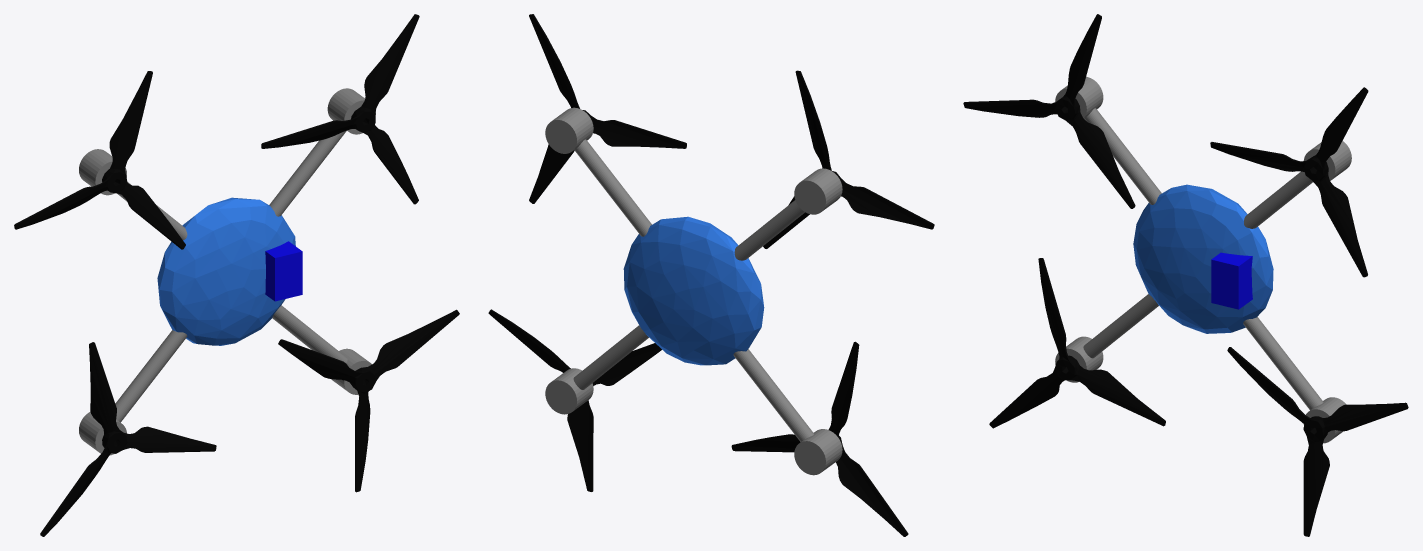
Rendered from quad.glb.
The picture shows the model from 3 angles, left to right: view 1: azimuth 30°, elevation 25°; view 2: azimuth 150°, elevation 25°; view 3: azimuth 330°, elevation 25°; orthographic projection.
Visible parts, largest first — view 1: Sphere, Tri Prop.002, Tri Prop.001, Tri Prop.003, Tri Prop, Cube, Cylinder.001, Cylinder, Cylinder.003, Cylinder.006, Cylinder.005, Cylinder.007 (+1 smaller); view 2: Sphere, Tri Prop.002, Tri Prop.003, Tri Prop, Tri Prop.001, Cylinder, Cylinder.001, Cylinder.006, Cylinder.007, Cylinder.005, Cylinder.003, Cylinder.004 (+1 smaller); view 3: Sphere, Tri Prop, Tri Prop.003, Tri Prop.001, Tri Prop.002, Cube, Cylinder.003, Cylinder.002, Cylinder.001, Cylinder, Cylinder.006, Cylinder.007 (+2 smaller).
Part boxes in pixels (x1=…): Sphere: x1=157, y1=197, x2=295, y2=345; Tri Prop.002: x1=40, y1=342, x2=216, y2=536; Tri Prop.001: x1=14, y1=71, x2=185, y2=249; Tri Prop.003: x1=261, y1=14, x2=419, y2=204; Tri Prop: x1=278, y1=309, x2=459, y2=492; Cube: x1=265, y1=241, x2=302, y2=301; Cylinder.001: x1=115, y1=330, x2=187, y2=422; Cylinder: x1=269, y1=120, x2=346, y2=216; Cylinder.003: x1=272, y1=305, x2=347, y2=362; Cylinder.006: x1=79, y1=149, x2=126, y2=195; Cylinder.005: x1=327, y1=88, x2=375, y2=134; Cylinder.007: x1=79, y1=411, x2=126, y2=455; Sphere: x1=623, y1=216, x2=764, y2=365; Tri Prop.002: x1=731, y1=341, x2=908, y2=536; Tri Prop.003: x1=529, y1=14, x2=686, y2=203; Tri Prop: x1=488, y1=309, x2=661, y2=491; Tri Prop.001: x1=763, y1=70, x2=934, y2=248; Cylinder: x1=574, y1=139, x2=651, y2=236; Cylinder.001: x1=733, y1=349, x2=813, y2=441; Cylinder.006: x1=794, y1=168, x2=842, y2=214; Cylinder.007: x1=794, y1=429, x2=842, y2=475; Cylinder.005: x1=545, y1=107, x2=593, y2=153; Cylinder.003: x1=573, y1=325, x2=648, y2=389; Cylinder.004: x1=545, y1=368, x2=593, y2=414; Sphere: x1=1133, y1=184, x2=1273, y2=333; Tri Prop: x1=1227, y1=347, x2=1408, y2=536; Tri Prop.003: x1=1210, y1=87, x2=1368, y2=277; Tri Prop.001: x1=963, y1=14, x2=1135, y2=208; Tri Prop.002: x1=989, y1=258, x2=1165, y2=428; Cube: x1=1211, y1=252, x2=1252, y2=309; Cylinder.003: x1=1243, y1=317, x2=1323, y2=410; Cylinder.002: x1=1084, y1=108, x2=1161, y2=204; Cylinder.001: x1=1083, y1=294, x2=1158, y2=358; Cylinder: x1=1244, y1=171, x2=1312, y2=228; Cylinder.006: x1=1055, y1=76, x2=1103, y2=118; Cylinder.007: x1=1055, y1=336, x2=1103, y2=382.
Size of the model in its own units: 6.44 by 6.52 by 0.7998.
